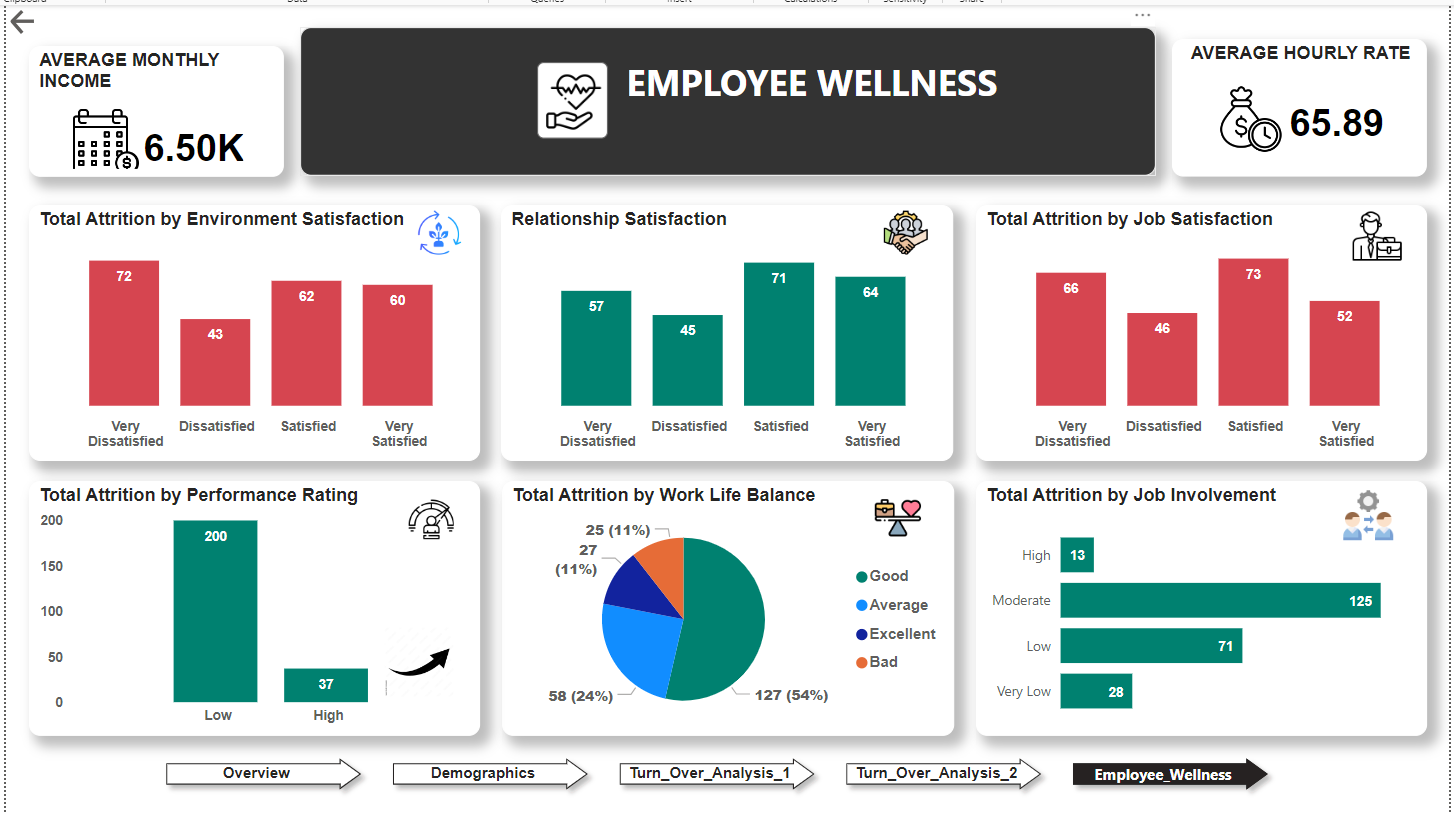

What the dashboard file says about the page in this screenshot:
{"tool":"powerbi","page":{"name":"Employee_Wellness","canvas":[1280,720],"ordinal":4},"visuals":[{"type":"textbox","box":[260.7,19.5,759,132.1],"z":0},{"type":"image","box":[470.9,50.4,63.4,67.7],"z":1000},{"type":"cardVisual","title":"AVERAGE MONTHLY INCOME","fields":{"Data":["Avg(HR-Employee-Attrition.MonthlyIncome)"]},"box":[20.4,36.4,226.1,116.2],"z":2000},{"type":"cardVisual","title":"AVERAGE HOURLY RATE","fields":{"Data":["Avg(HR-Employee-Attrition.HourlyRate)"]},"box":[1033.9,30.1,226.1,122.4],"z":3000},{"type":"columnChart","title":"Total Attrition by Environment Satisfaction","fields":{"Y":["Sum(HR-Employee-Attrition.Attrition Count)"],"Category":["HR-Employee-Attrition.EnvironmentSatisfaction (groups)"]},"box":[20.4,177.3,399.9,227],"z":4000},{"type":"columnChart","title":"Relationship Satisfaction","fields":{"Y":["Sum(HR-Employee-Attrition.Attrition Count)"],"Category":["HR-Employee-Attrition.RelationshipSatisfaction (groups)"]},"box":[438.9,177.3,400.8,227],"z":5000},{"type":"columnChart","title":"Total Attrition by Job Satisfaction","fields":{"Y":["Sum(HR-Employee-Attrition.Attrition Count)"],"Category":["HR-Employee-Attrition.JobSatisfaction (groups)"]},"box":[860.1,177.3,399.9,227],"z":6000},{"type":"pieChart","title":"Total Attrition by Work Life Balance","fields":{"Category":["HR-Employee-Attrition.WorkLifeBalance (groups)"],"Y":["Sum(HR-Employee-Attrition.Attrition Count)"]},"box":[439.8,422.1,400.8,226.1],"z":7000},{"type":"image","box":[756.4,429.2,68.3,51.4],"z":8000},{"type":"image","box":[1179.3,177.3,72.7,55],"z":9000},{"type":"columnChart","title":"Total Attrition by Performance Rating","fields":{"Category":["HR-Employee-Attrition.PerformanceRating (groups)"],"Y":["Sum(HR-Employee-Attrition.Attrition Count)"]},"box":[20.4,422.1,399.9,226.1],"z":10000},{"type":"image","box":[756.4,177.3,83.3,48.8],"z":11000},{"type":"barChart","title":"Total Attrition by Job Involvement","fields":{"Category":["HR-Employee-Attrition.JobInvolvement (groups)"],"Y":["Sum(HR-Employee-Attrition.Attrition Count)"]},"box":[860.1,422.1,399.9,226.1],"z":12000},{"type":"image","box":[1179.3,423.8,56.7,56.7],"z":13000},{"type":"image","box":[360,177.3,48.8,48.8],"z":14000},{"type":"image","box":[323.6,547.1,85.1,70.9],"z":15000},{"type":"image","box":[352,430.9,49.7,49.7],"z":16000},{"type":"pageNavigator","box":[133,658.8,998.4,46.1],"z":17000},{"type":"actionButton","box":[0,0,69.2,30.1],"z":18000}]}

Visuals, with their boxes on the page's 1280x720 design canvas (x1, y1, x2, y2). These are canvas units, not pixel positions in the 1454x813 screenshot, which may show the page scaled, cropped or inside an application window:
textbox: bbox=(261, 20, 1020, 152)
image: bbox=(471, 50, 534, 118)
"AVERAGE MONTHLY INCOME" cardVisual: bbox=(20, 36, 246, 153)
"AVERAGE HOURLY RATE" cardVisual: bbox=(1034, 30, 1260, 152)
"Total Attrition by Environment Satisfaction" columnChart: bbox=(20, 177, 420, 404)
"Relationship Satisfaction" columnChart: bbox=(439, 177, 840, 404)
"Total Attrition by Job Satisfaction" columnChart: bbox=(860, 177, 1260, 404)
"Total Attrition by Work Life Balance" pieChart: bbox=(440, 422, 841, 648)
image: bbox=(756, 429, 825, 481)
image: bbox=(1179, 177, 1252, 232)
"Total Attrition by Performance Rating" columnChart: bbox=(20, 422, 420, 648)
image: bbox=(756, 177, 840, 226)
"Total Attrition by Job Involvement" barChart: bbox=(860, 422, 1260, 648)
image: bbox=(1179, 424, 1236, 480)
image: bbox=(360, 177, 409, 226)
image: bbox=(324, 547, 409, 618)
image: bbox=(352, 431, 402, 481)
pageNavigator: bbox=(133, 659, 1131, 705)
actionButton: bbox=(0, 0, 69, 30)
